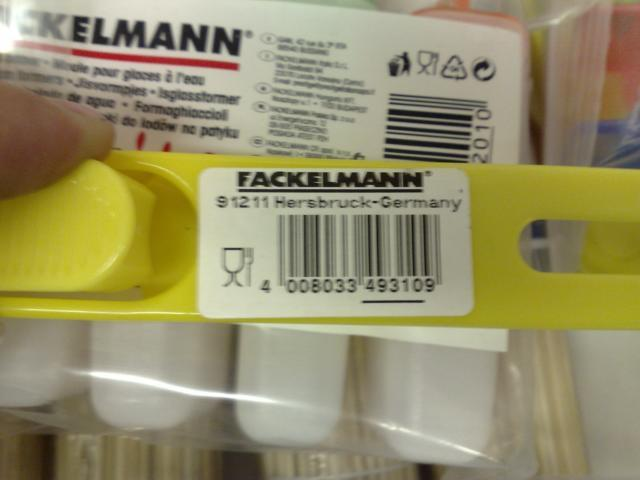Barcode: (256, 210, 451, 307)
